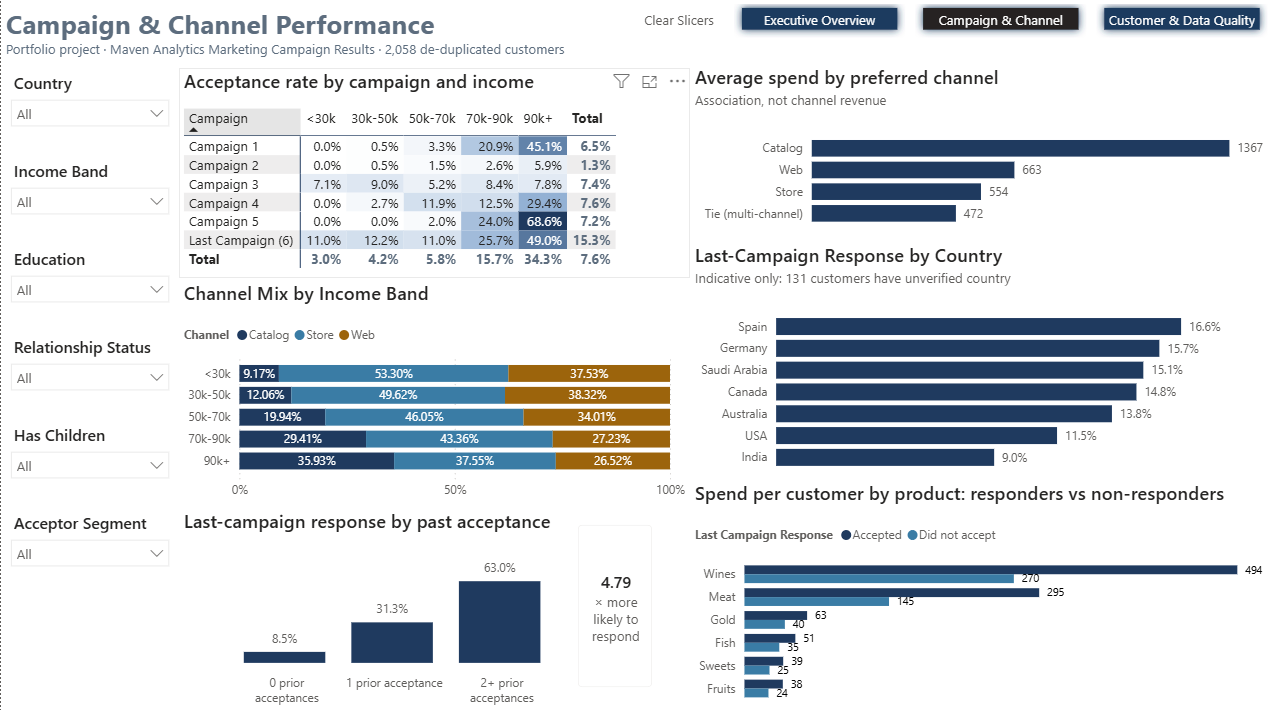

This screenshot's page, from the dashboard's own definition file:
{"tool":"powerbi","page":{"name":"Campaign & Channel","canvas":[1280,720],"ordinal":1},"visuals":[{"type":"textbox","box":[0,0,583.8,67.7],"z":0},{"type":"slicer","fields":{"Values":["Customer.Country"]},"box":[0,68.1,180,80.9],"z":1000},{"type":"slicer","fields":{"Values":["Customer.Income Band"]},"box":[0,156.9,180,80.9],"z":2000},{"type":"slicer","fields":{"Values":["Customer.Education"]},"box":[0,245.7,180,80.9],"z":3000},{"type":"slicer","fields":{"Values":["Customer.Prior Acceptor Segment"]},"box":[0,512.2,180,80.9],"z":4000},{"type":"slicer","fields":{"Values":["Customer.Has Children"]},"box":[0,423.4,180,80.9],"z":5000},{"type":"slicer","fields":{"Values":["Customer.Relationship Status"]},"box":[0,334.6,180,80.9],"z":6000},{"type":"pivotTable","title":"Acceptance rate by campaign and income","fields":{"Rows":["Campaign.Campaign"],"Columns":["Customer.Income Band"],"Values":["_Measures.Campaign Acceptance Rate"]},"box":[179.8,69.1,516,211.7],"z":7000},{"type":"clusteredColumnChart","title":"Last-campaign response by past acceptance","fields":{"Category":["Customer.Prior Acceptor Segment"],"Y":["_Measures.Last Campaign Response Rate"]},"box":[179.8,512.8,418.1,207.4],"z":8000},{"type":"hundredPercentStackedBarChart","title":"Channel Mix by Income Band","fields":{"Category":["Customer.Income Band"],"Series":["Channel.Channel"],"Y":["_Measures.Total Channel Purchases"]},"box":[179.8,283,516,229.8],"z":9000},{"type":"clusteredBarChart","title":"Average spend by preferred channel","fields":{"Category":["Customer.Preferred Channel"],"Y":["_Measures.Average Customer Spend"]},"box":[696,64.6,583.8,173.7],"z":10000},{"type":"clusteredBarChart","title":"Spend per customer by product: responders vs non-responders","fields":{"Category":["Product.Product"],"Series":["Customer.Last Campaign Response"],"Y":["_Measures.Average Customer Spend"]},"box":[696,484.8,583.8,234.3],"z":11000},{"type":"clusteredBarChart","title":"Last-Campaign Response by Country","fields":{"Category":["Customer.Country"],"Y":["_Measures.Last Campaign Response Rate"]},"box":[696,244.4,583.8,240.4],"z":12000},{"type":"cardVisual","fields":{"Data":["_Measures.Prior Acceptor Response Lift"]},"box":[566,512.8,109.6,198.9],"z":13000},{"type":"pageNavigator","box":[740,0,540.4,38],"z":13001},{"type":"actionButton","box":[640.4,4,89,30.3],"z":13002}]}

Visuals, with their boxes in screenshot pixels (x1, y1, x2, y2), scaled from the page's 1280x720 canvas onto the 1268x710 screenshot:
textbox: {"left": 0, "top": 0, "right": 578, "bottom": 67}
slicer - Customer.Country: {"left": 0, "top": 67, "right": 178, "bottom": 147}
slicer - Customer.Income Band: {"left": 0, "top": 155, "right": 178, "bottom": 234}
slicer - Customer.Education: {"left": 0, "top": 242, "right": 178, "bottom": 322}
slicer - Customer.Prior Acceptor Segment: {"left": 0, "top": 505, "right": 178, "bottom": 585}
slicer - Customer.Has Children: {"left": 0, "top": 418, "right": 178, "bottom": 497}
slicer - Customer.Relationship Status: {"left": 0, "top": 330, "right": 178, "bottom": 410}
"Acceptance rate by campaign and income" pivotTable: {"left": 178, "top": 68, "right": 689, "bottom": 277}
"Last-campaign response by past acceptance" clusteredColumnChart: {"left": 178, "top": 506, "right": 592, "bottom": 709}
"Channel Mix by Income Band" hundredPercentStackedBarChart: {"left": 178, "top": 279, "right": 689, "bottom": 506}
"Average spend by preferred channel" clusteredBarChart: {"left": 689, "top": 64, "right": 1267, "bottom": 235}
"Spend per customer by product: responders vs non-responders" clusteredBarChart: {"left": 689, "top": 478, "right": 1267, "bottom": 709}
"Last-Campaign Response by Country" clusteredBarChart: {"left": 689, "top": 241, "right": 1267, "bottom": 478}
cardVisual - _Measures.Prior Acceptor Response Lift: {"left": 561, "top": 506, "right": 669, "bottom": 702}
pageNavigator: {"left": 733, "top": 0, "right": 1267, "bottom": 37}
actionButton: {"left": 634, "top": 4, "right": 723, "bottom": 34}
